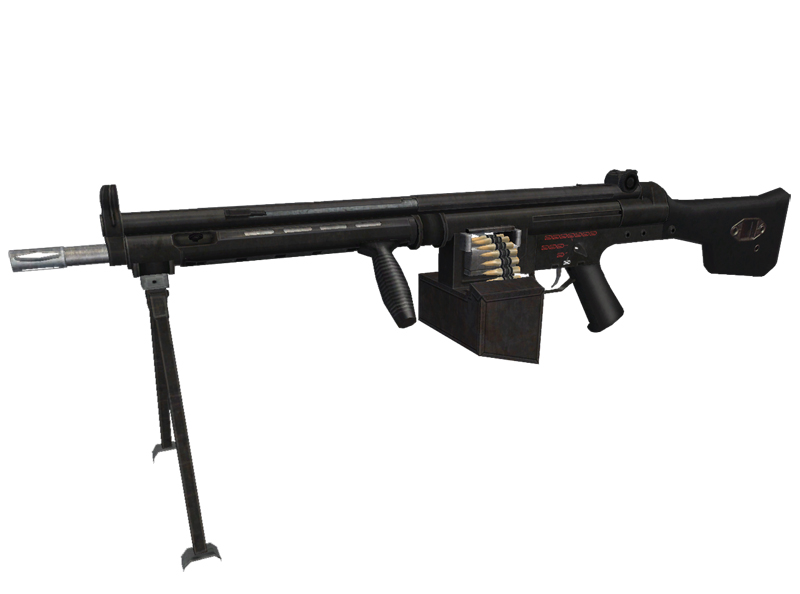rifle: (14, 116, 785, 571)
